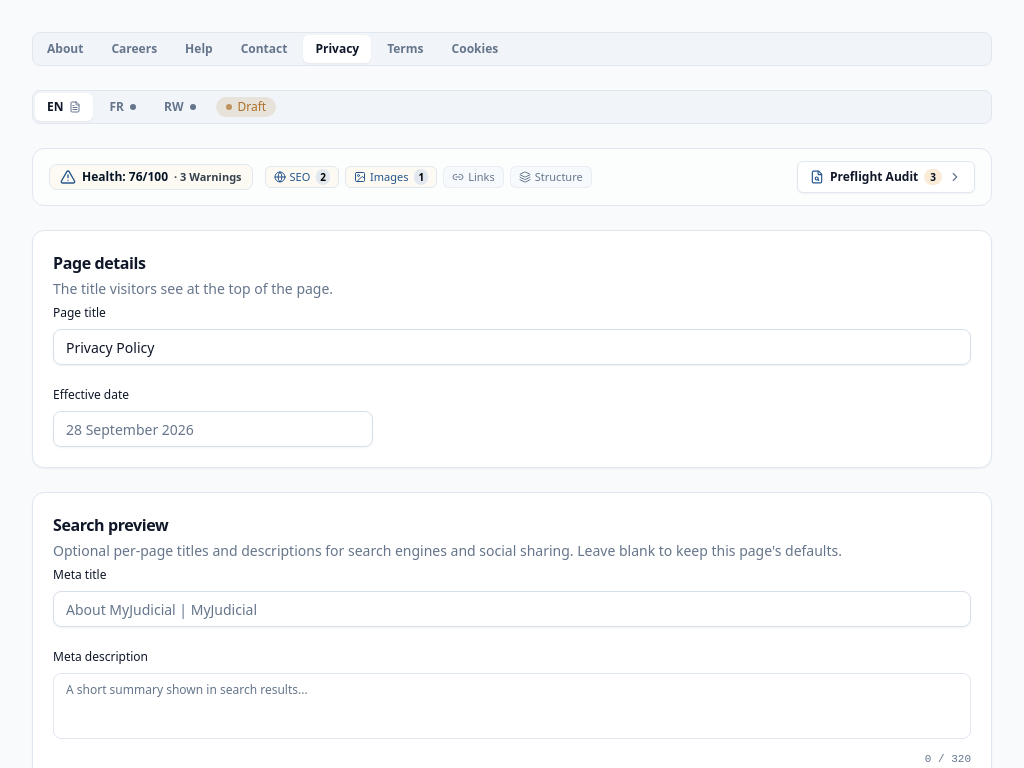
Test: ContentEditor — copy from English and delete › only offers copy-from-English on fr/rw, and the copy lands as a draft
The width and height of the screenshot is (1024, 768).
Expected: the button "Copy from English" is not shown
Click the button "FR" at (123, 107), box [98,93,148,121]
(page scrolled)
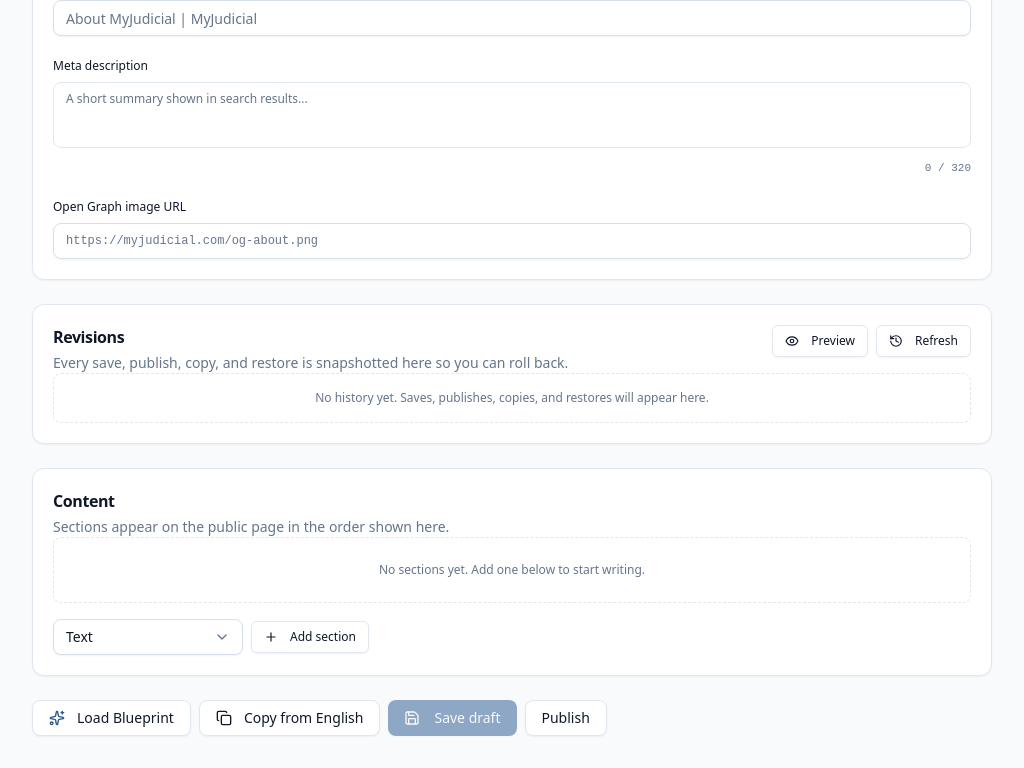
Click the button "Copy from English" at (290, 718), box [199,700,380,736]
(page scrolled)
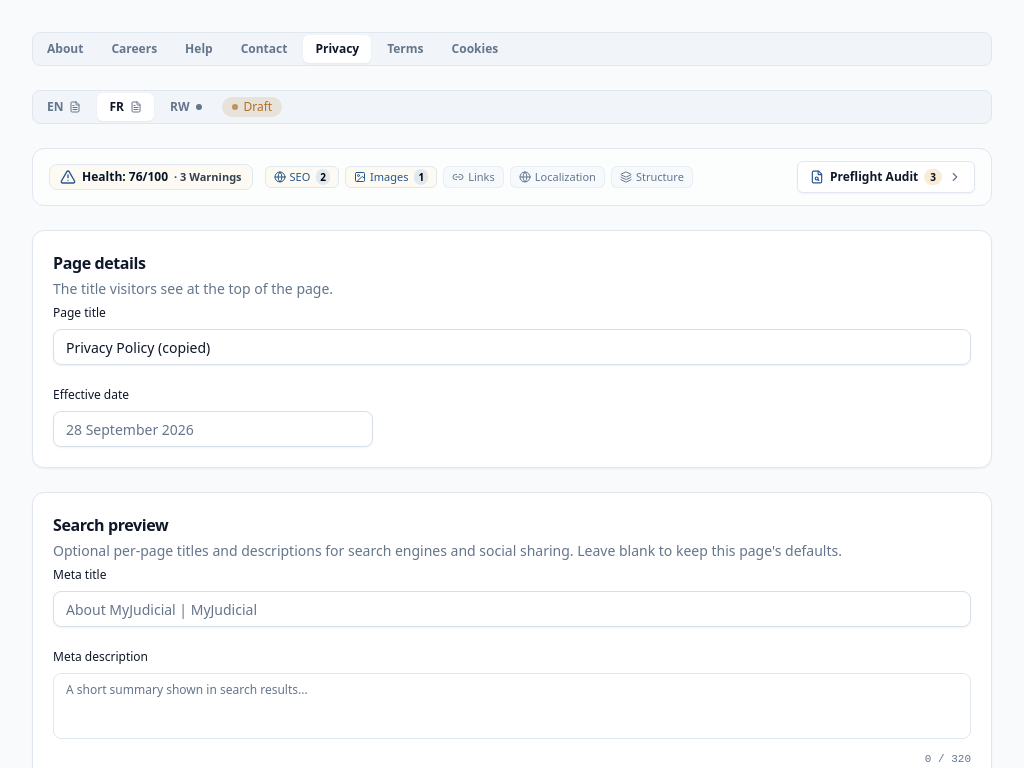
Expected: the field showing "Privacy Policy (copied)" is shown, [53,329,971,365]
